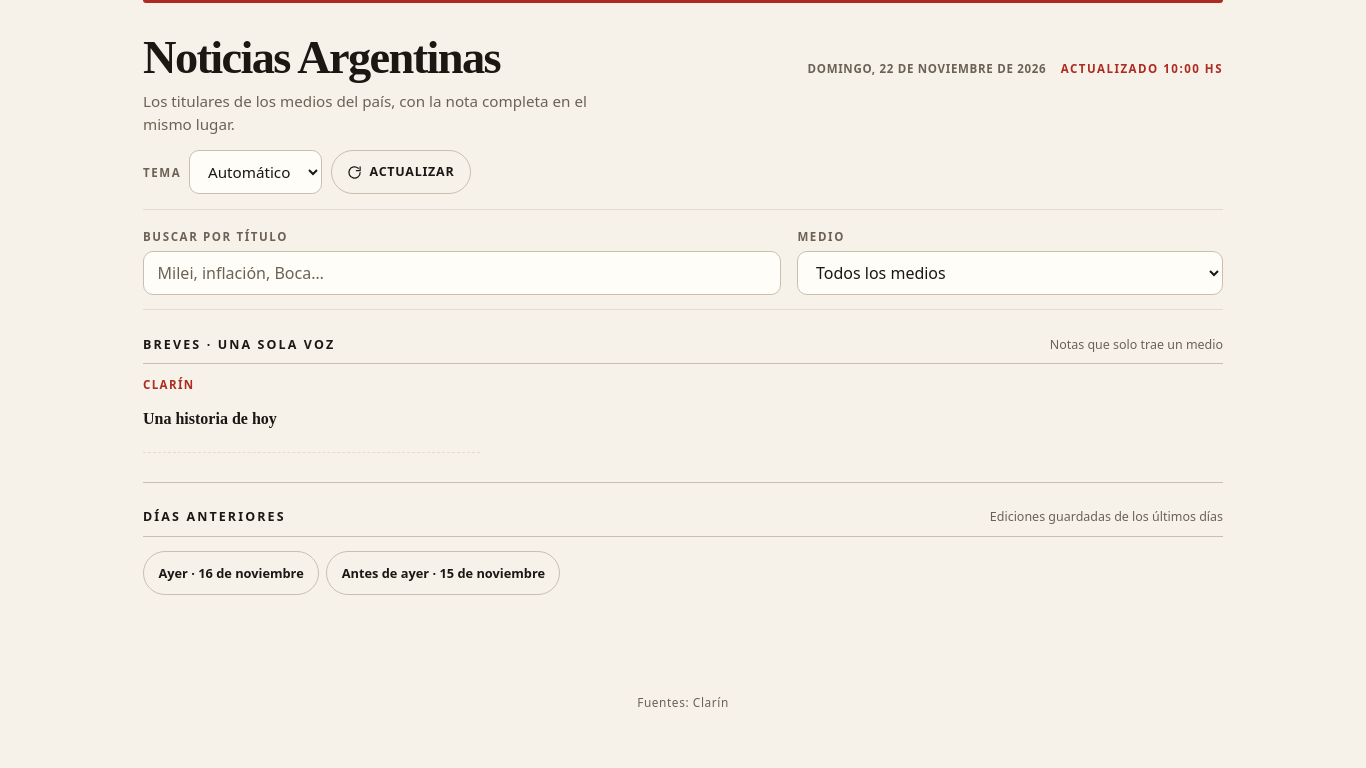
edition history › shows a retry message when a previous day fails
The width and height of the screenshot is (1366, 768).
Expected: the button "Una historia de hoy" is shown, [143,397,480,441]
Click the button "Ayer · 16 de noviembre": click(231, 573) [143,551,319,595]
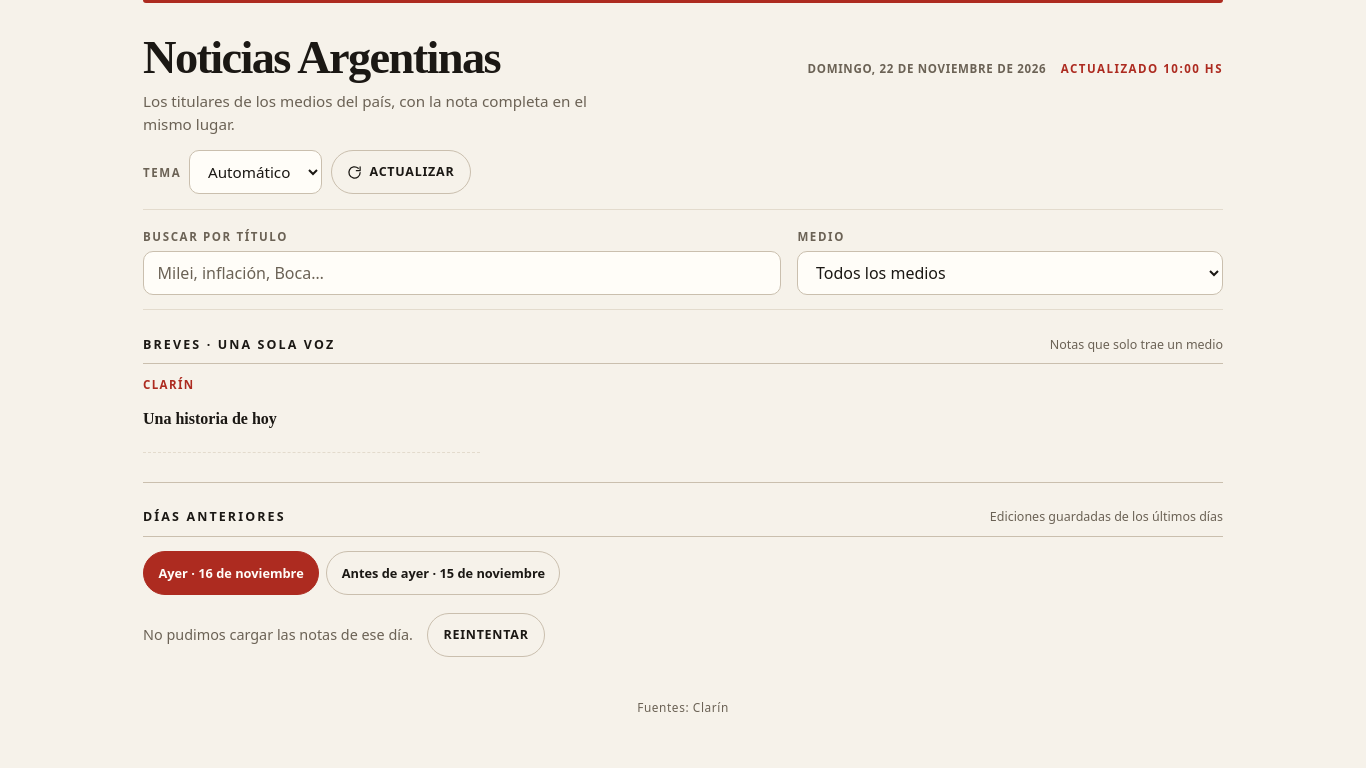
Expected: the button "Una historia de hoy" is shown, [143,397,480,441]
Result: the text "No pudimos cargar las notas de ese día." is shown at [143,624,413,646]
Result: the button "Reintentar" is shown at [427,613,545,657]
